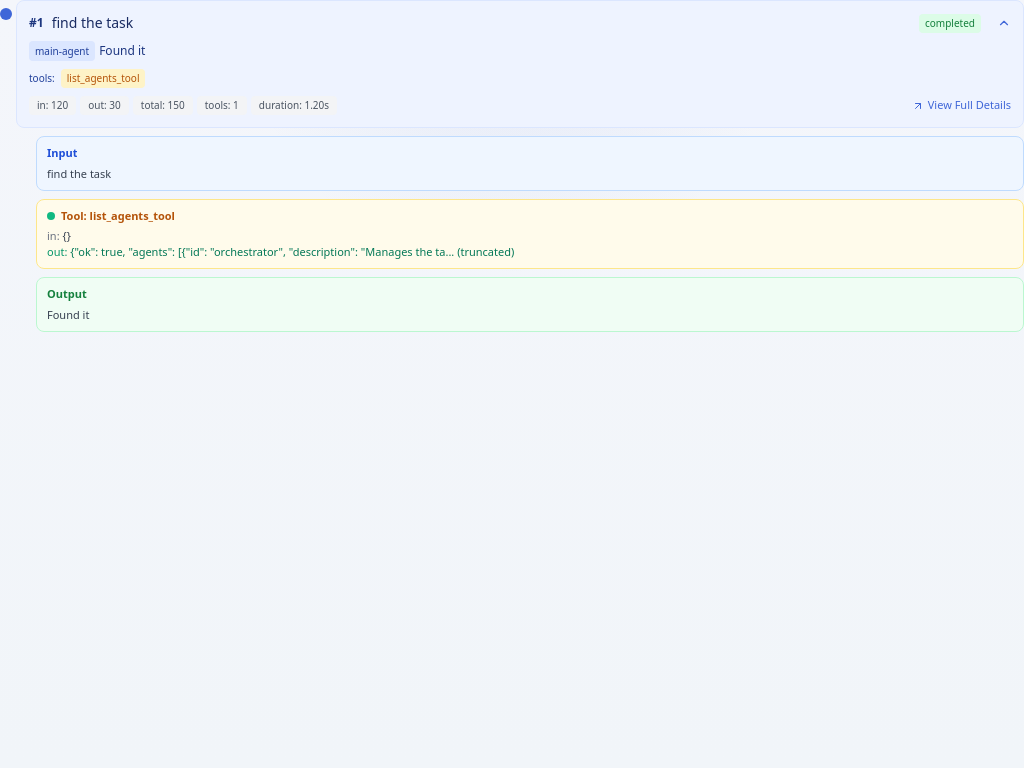
Test: ProcessGraph steps › parses a result the run log cut short, and says it is cut
Click the button with test id "process-node" at (118, 215), box [36,198,1023,269]
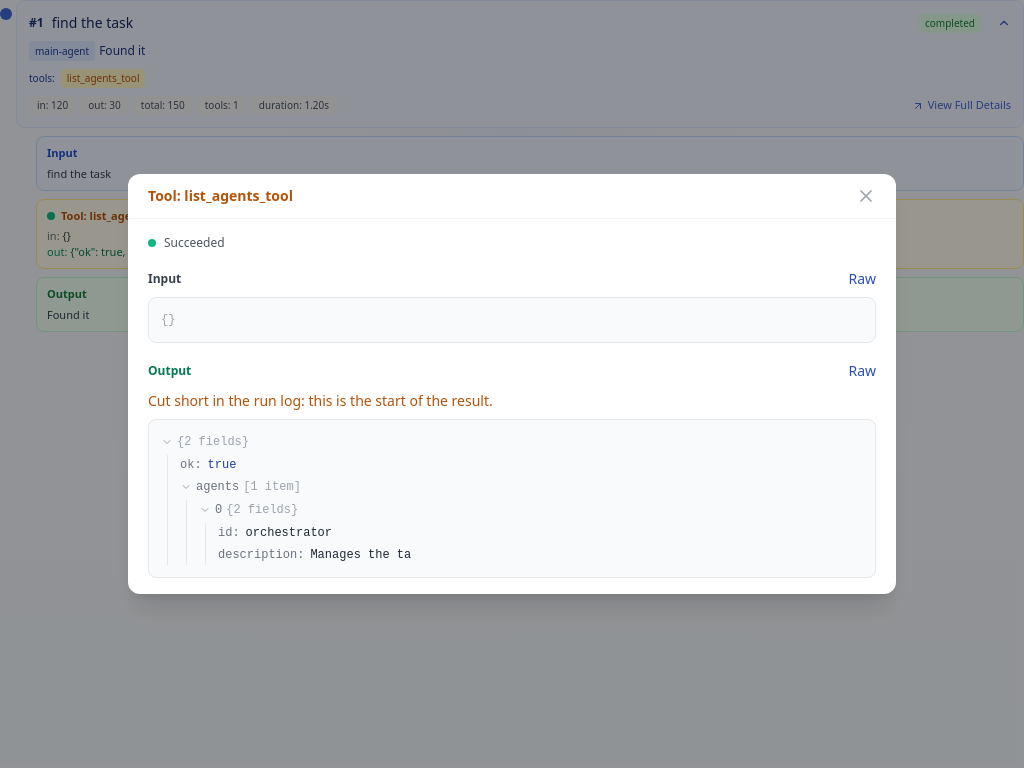
expect the text "Cut short in the run log: this is the start of the result." is shown: met, box [148,391,493,410]
expect the text "orchestrator" is shown: met, box [246,523,332,543]
expect the text "Manages the ta" is shown: met, box [310,545,411,565]
